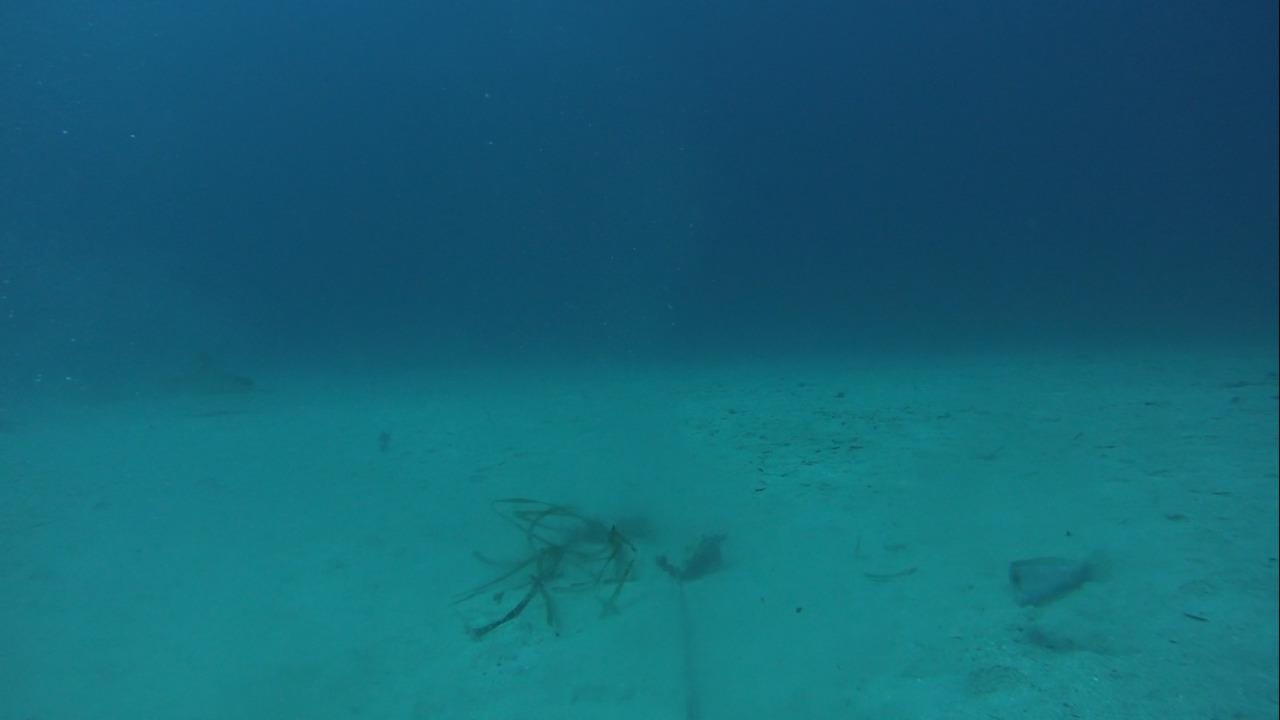raor: (1004, 536, 1108, 612)
